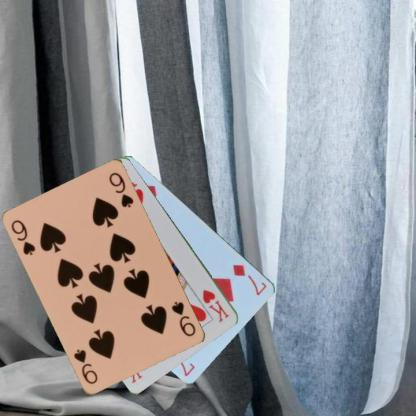7d: (231, 261, 268, 297)
9s: (9, 217, 37, 257), (169, 299, 197, 338)
Kh: (200, 287, 231, 324)
